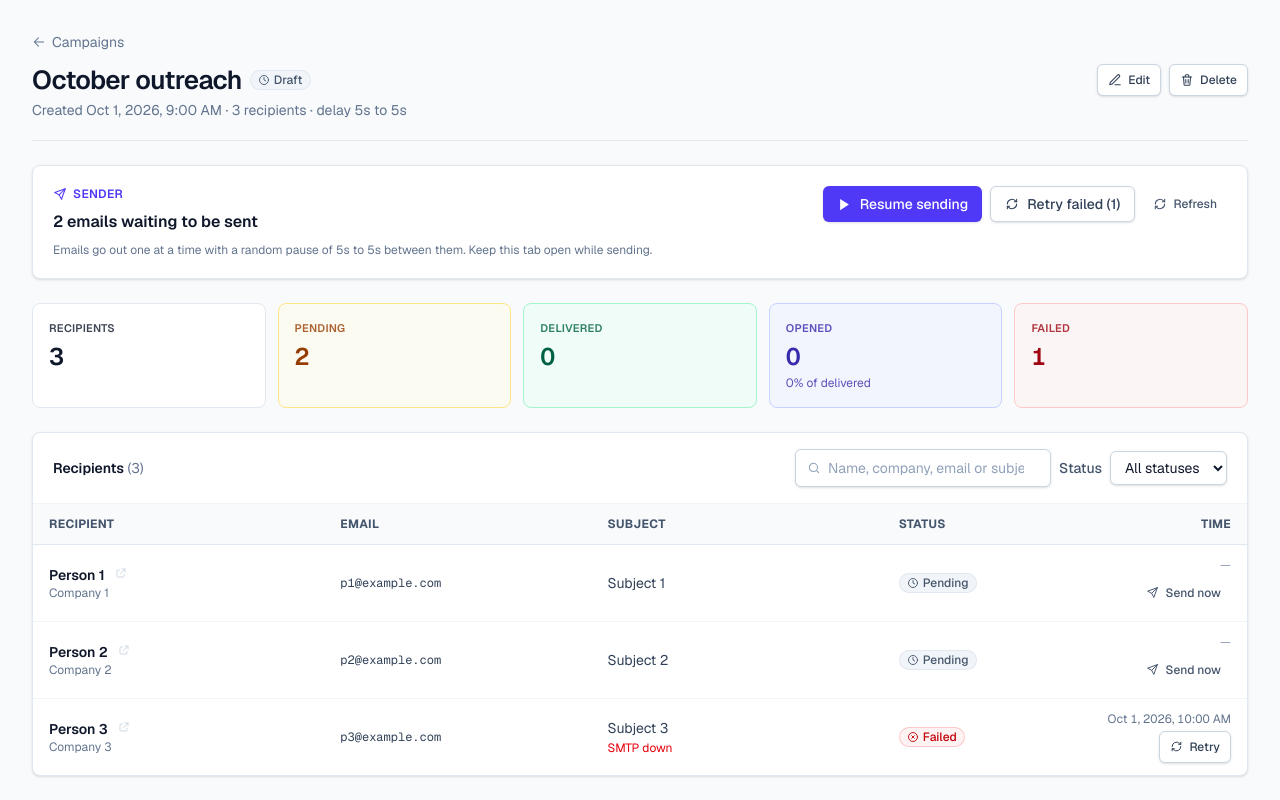
CampaignDetailPage › asks for confirmation, then sends one email at a time with the tab id and waits between sends
What coordinates should you click on to do the following:
click the button "Resume sending"
I would click on:
 (902, 204)
Its box is [823,186,982,222].
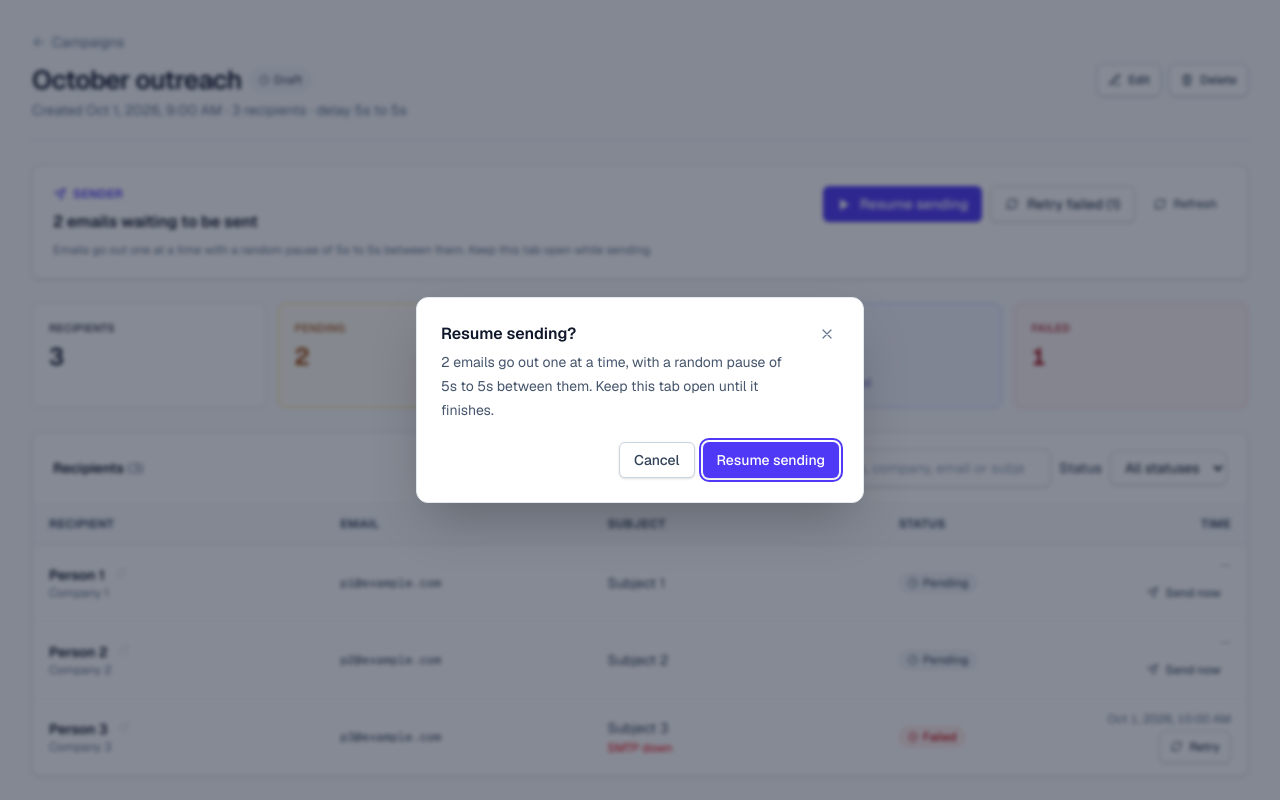
Now the text "2 emails go out one at a time" is shown, box [441,353,782,419]
What coordinates should you click on to do the following:
click the button "Resume sending"
I would click on:
 (771, 460)
Its box is [702,442,839,478].
Wait 5600 ms
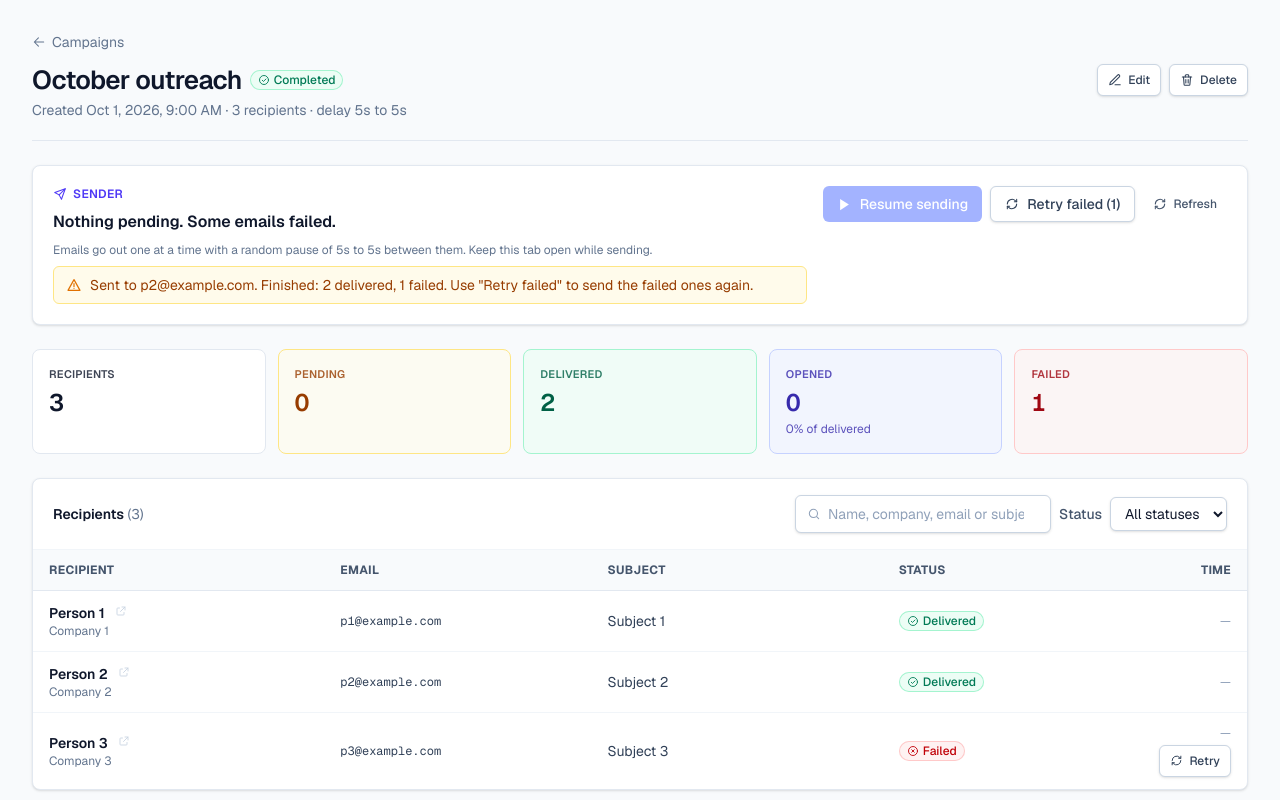
Expected: the button named "Pause" is shown, [823,186,982,222]
Now the text "Sent to p1@example.com. 1 left. Next email in 5s." is shown, box [90,275,753,295]
Now the text "Finished: 2 delivered, 1 failed" is shown, box [90,276,753,294]
